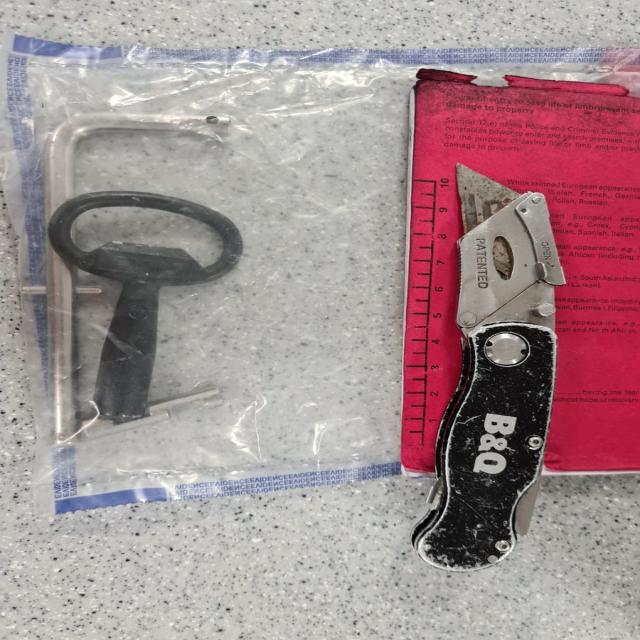Sharp-Object: (415, 161, 562, 574)
